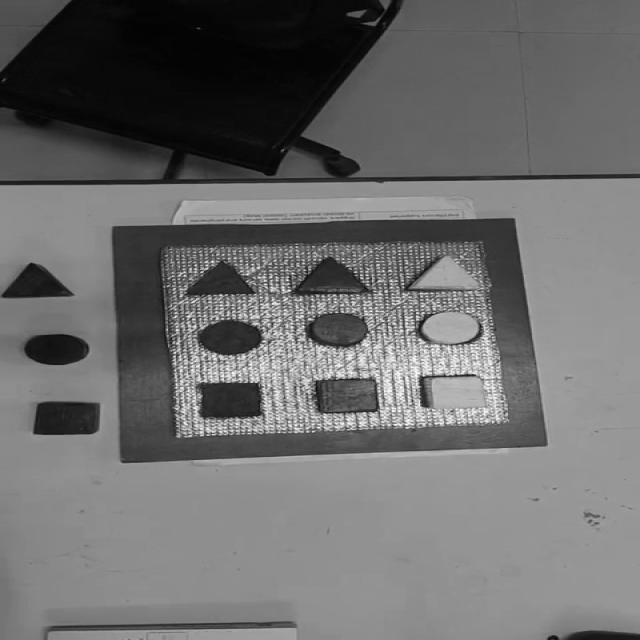bcircle: (23, 332, 91, 366)
bcube: (31, 400, 101, 436)
btriangle: (1, 261, 77, 300)
mtcircle: (197, 319, 264, 355)
mtcube: (198, 381, 264, 419)
mttriangle: (186, 259, 260, 297)
rcircle: (310, 312, 370, 346)
rcube: (315, 378, 382, 413)
rtriangle: (295, 257, 369, 294)
wb: (160, 242, 510, 438)
ycircle: (418, 310, 485, 346)
ycube: (421, 374, 491, 410)
ytriangle: (408, 254, 486, 292)
